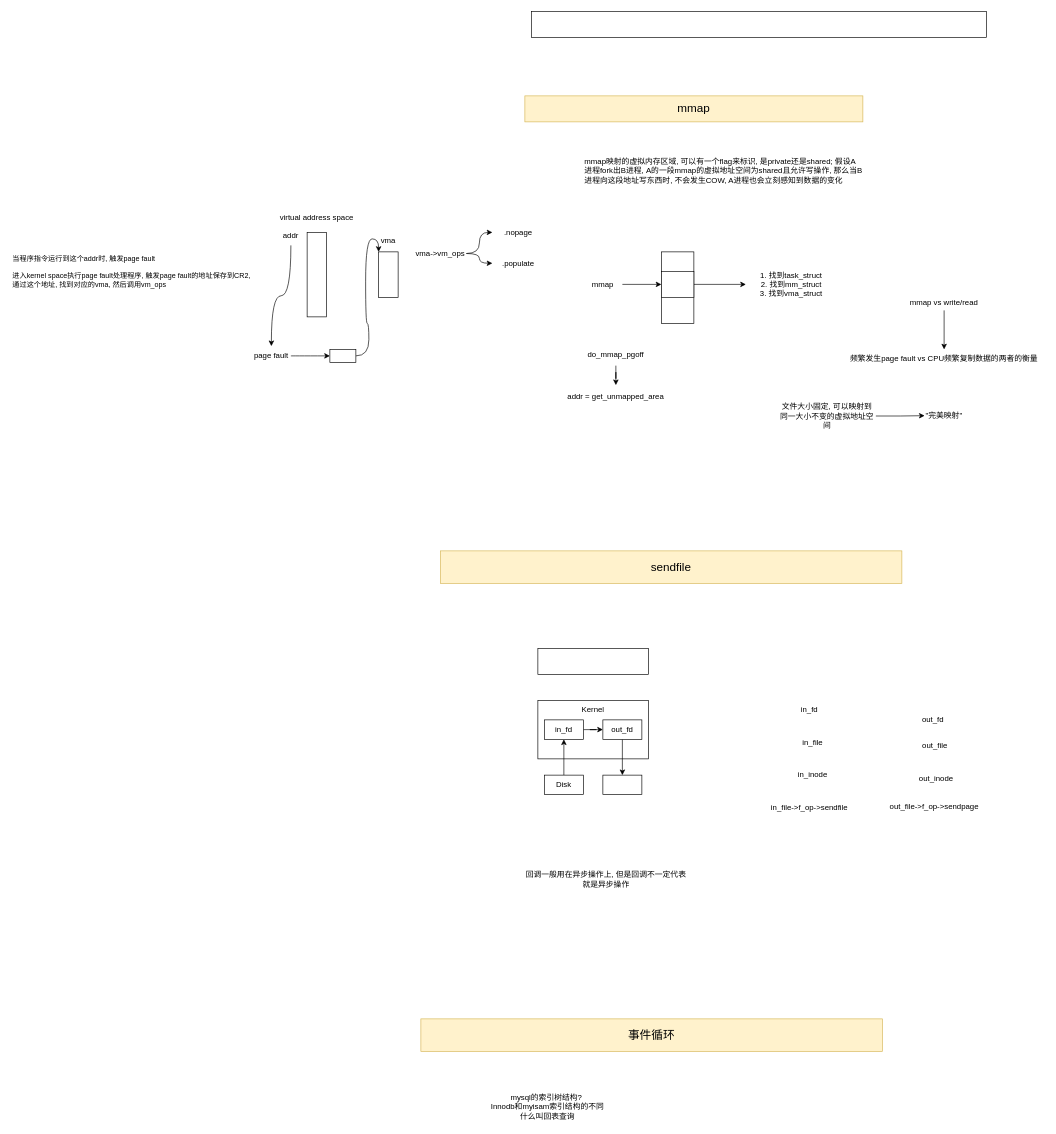
Some shapes in this 1056 by 1134 pixel diagram are drawn without their labels. The centre of each missing label's shape, as x and y in pixels:
CR2: point 342,355
heap: point 677,284
NIC: point 622,784
第五期 - 1: point 758,24
